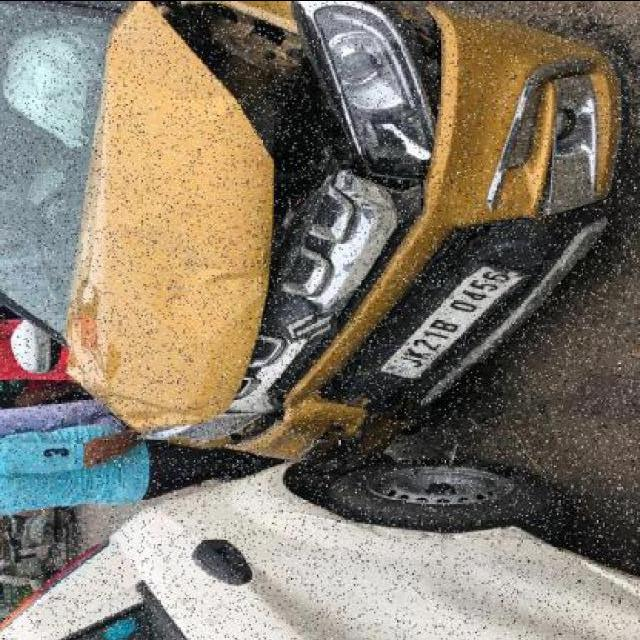Headlight-Damage: (299, 0, 456, 178)
bonnet-dent: (91, 35, 271, 412)
front-bumper-dent: (205, 225, 529, 472)
